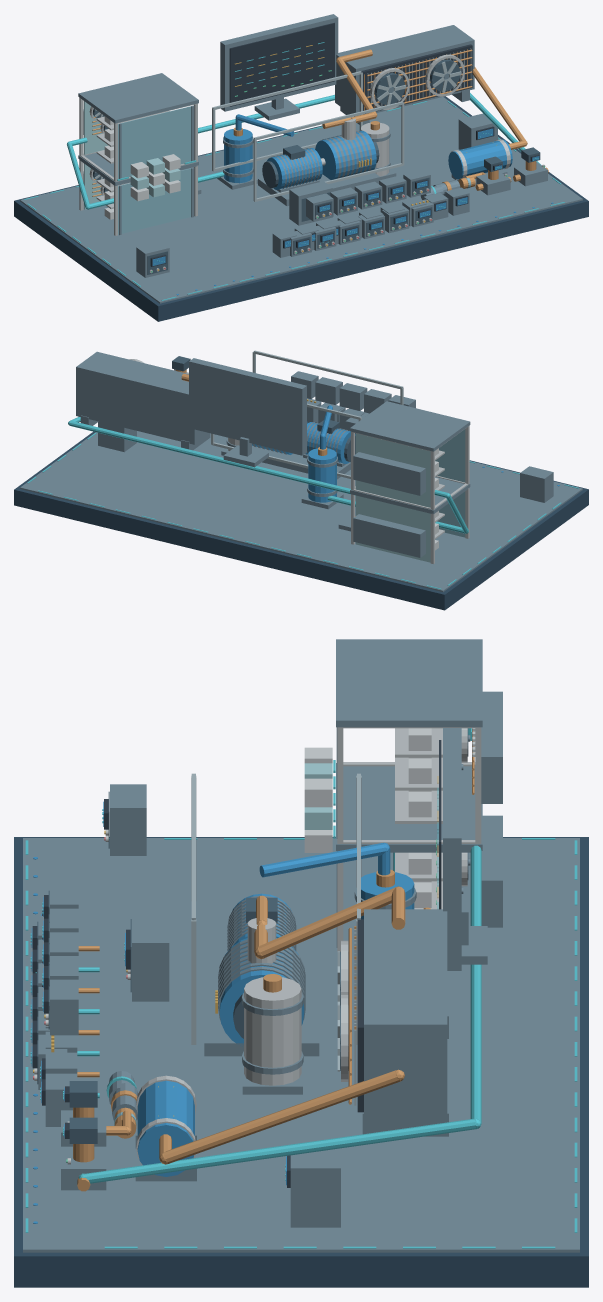
File: Level69_Complete_ArtKit_Showcase.glb
The picture shows the model from 3 angles, top to bottom: view 1: azimuth 30°, elevation 25°; view 2: azimuth 150°, elevation 25°; view 3: azimuth 270°, elevation 25°; orthographic projection. The views are drawn at different scales.
Visible parts, largest first — view 1: Level69_Complete_ArtKit_Showcase_Part_001, Level69_Complete_ArtKit_Showcase_Part_000, Level69_Complete_ArtKit_Showcase_Part_862, Level69_Complete_ArtKit_Showcase_Part_144, Level69_Complete_ArtKit_Showcase_Part_385, Level69_Complete_ArtKit_Showcase_Part_386, Level69_Complete_ArtKit_Showcase_Part_443, Level69_Complete_ArtKit_Showcase_Part_861, Level69_Complete_ArtKit_Showcase_Part_145, Level69_Complete_ArtKit_Showcase_Part_088, Level69_Complete_ArtKit_Showcase_Part_206, Level69_Complete_ArtKit_Showcase_Part_496 (+26 smaller); view 2: Level69_Complete_ArtKit_Showcase_Part_001, Level69_Complete_ArtKit_Showcase_Part_000, Level69_Complete_ArtKit_Showcase_Part_861, Level69_Complete_ArtKit_Showcase_Part_144, Level69_Complete_ArtKit_Showcase_Part_386, Level69_Complete_ArtKit_Showcase_Part_384, Level69_Complete_ArtKit_Showcase_Part_287, Level69_Complete_ArtKit_Showcase_Part_243, Level69_Complete_ArtKit_Showcase_Part_442, Level69_Complete_ArtKit_Showcase_Part_521, Level69_Complete_ArtKit_Showcase_Part_496, Level69_Complete_ArtKit_Showcase_Part_385 (+12 smaller); view 3: Level69_Complete_ArtKit_Showcase_Part_001, Level69_Complete_ArtKit_Showcase_Part_000, Level69_Complete_ArtKit_Showcase_Part_144, Level69_Complete_ArtKit_Showcase_Part_386, Level69_Complete_ArtKit_Showcase_Part_444, Level69_Complete_ArtKit_Showcase_Part_501, Level69_Complete_ArtKit_Showcase_Part_520, Level69_Complete_ArtKit_Showcase_Part_861, Level69_Complete_ArtKit_Showcase_Part_853, Level69_Complete_ArtKit_Showcase_Part_071, Level69_Complete_ArtKit_Showcase_Part_206, Level69_Complete_ArtKit_Showcase_Part_124 (+21 smaller).
Part boxes in pixels (left/top/right/bottom): Level69_Complete_ArtKit_Showcase_Part_001: left=20, top=97, right=582, bottom=303; Level69_Complete_ArtKit_Showcase_Part_000: left=14, top=96, right=588, bottom=321; Level69_Complete_ArtKit_Showcase_Part_862: left=229, top=22, right=334, bottom=106; Level69_Complete_ArtKit_Showcase_Part_144: left=335, top=25, right=474, bottom=116; Level69_Complete_ArtKit_Showcase_Part_385: left=118, top=105, right=193, bottom=178; Level69_Complete_ArtKit_Showcase_Part_386: left=78, top=73, right=198, bottom=123; Level69_Complete_ArtKit_Showcase_Part_443: left=118, top=168, right=191, bottom=234; Level69_Complete_ArtKit_Showcase_Part_861: left=220, top=14, right=338, bottom=111; Level69_Complete_ArtKit_Showcase_Part_145: left=361, top=44, right=472, bottom=114; Level69_Complete_ArtKit_Showcase_Part_088: left=315, top=130, right=376, bottom=179; Level69_Complete_ArtKit_Showcase_Part_206: left=448, top=139, right=512, bottom=179; Level69_Complete_ArtKit_Showcase_Part_496: left=224, top=129, right=252, bottom=183; Level69_Complete_ArtKit_Showcase_Part_001: left=20, top=431, right=582, bottom=591; Level69_Complete_ArtKit_Showcase_Part_000: left=14, top=431, right=588, bottom=610; Level69_Complete_ArtKit_Showcase_Part_861: left=189, top=358, right=306, bottom=455; Level69_Complete_ArtKit_Showcase_Part_144: left=76, top=351, right=209, bottom=444; Level69_Complete_ArtKit_Showcase_Part_386: left=350, top=401, right=470, bottom=451; Level69_Complete_ArtKit_Showcase_Part_384: left=355, top=433, right=430, bottom=507; Level69_Complete_ArtKit_Showcase_Part_287: left=353, top=514, right=425, bottom=557; Level69_Complete_ArtKit_Showcase_Part_243: left=353, top=452, right=425, bottom=495; Level69_Complete_ArtKit_Showcase_Part_442: left=355, top=495, right=430, bottom=562; Level69_Complete_ArtKit_Showcase_Part_521: left=69, top=420, right=355, bottom=495; Level69_Complete_ArtKit_Showcase_Part_496: left=308, top=448, right=336, bottom=502; Level69_Complete_ArtKit_Showcase_Part_385: left=435, top=429, right=465, bottom=482; Level69_Complete_ArtKit_Showcase_Part_001: left=23, top=838, right=579, bottom=1252; Level69_Complete_ArtKit_Showcase_Part_000: left=14, top=837, right=588, bottom=1287; Level69_Complete_ArtKit_Showcase_Part_144: left=364, top=909, right=447, bottom=1122; Level69_Complete_ArtKit_Showcase_Part_386: left=336, top=639, right=482, bottom=727; Level69_Complete_ArtKit_Showcase_Part_444: left=336, top=763, right=482, bottom=850; Level69_Complete_ArtKit_Showcase_Part_501: left=244, top=977, right=301, bottom=1085; Level69_Complete_ArtKit_Showcase_Part_520: left=83, top=1118, right=476, bottom=1183; Level69_Complete_ArtKit_Showcase_Part_861: left=443, top=728, right=461, bottom=970; Level69_Complete_ArtKit_Showcase_Part_853: left=290, top=1142, right=340, bottom=1227; Level69_Complete_ArtKit_Showcase_Part_071: left=204, top=952, right=319, bottom=1056; Level69_Complete_ArtKit_Showcase_Part_206: left=137, top=1080, right=194, bottom=1176; Level69_Complete_ArtKit_Showcase_Part_124: left=132, top=909, right=169, bottom=1001.
Size of the model in its own units: 13.8 by 4.76 by 8.
